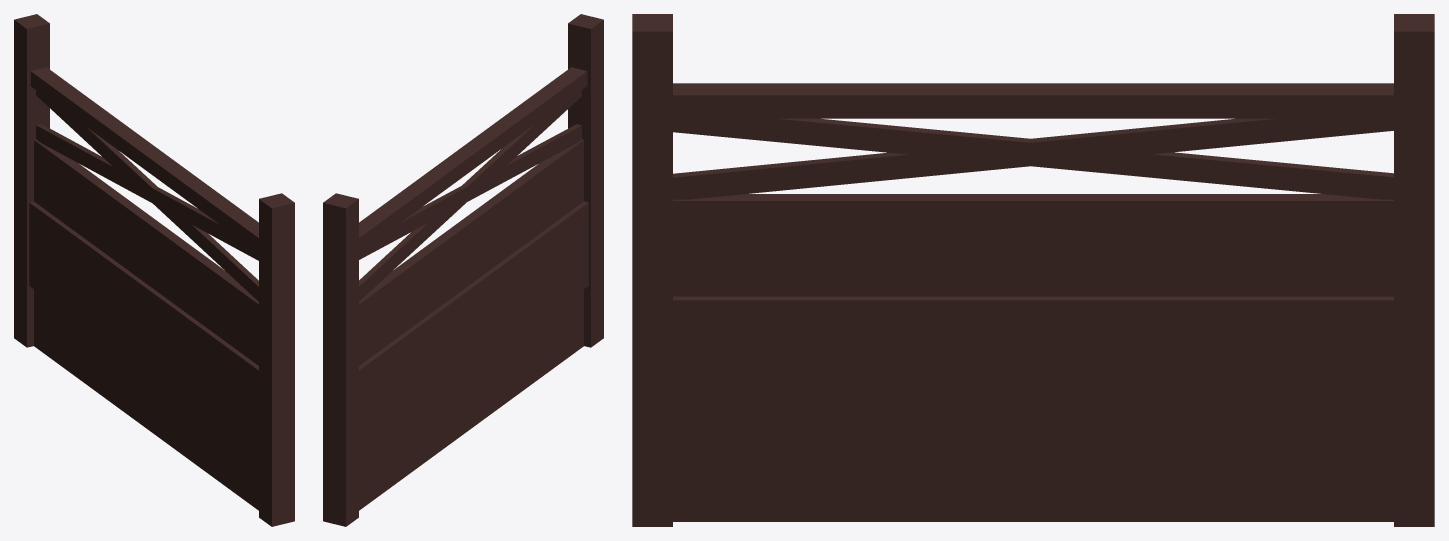
Rendered from MediumWall.glb.
The picture shows the model from 3 angles, left to right: view 1: azimuth 30°, elevation 25°; view 2: azimuth 150°, elevation 25°; view 3: azimuth 270°, elevation 25°; orthographic projection. The views are drawn at different scales.
Visible parts, largest first — view 1: WallShort; view 2: WallShort; view 3: WallShort.
Boxes of the visible parts, x1,y1,x2,y2 form: WallShort: (14, 14, 294, 526); WallShort: (323, 14, 603, 526); WallShort: (632, 14, 1434, 526).
Bounding box in the file's own units: 0.5435 × 7.17 × 10.51.
